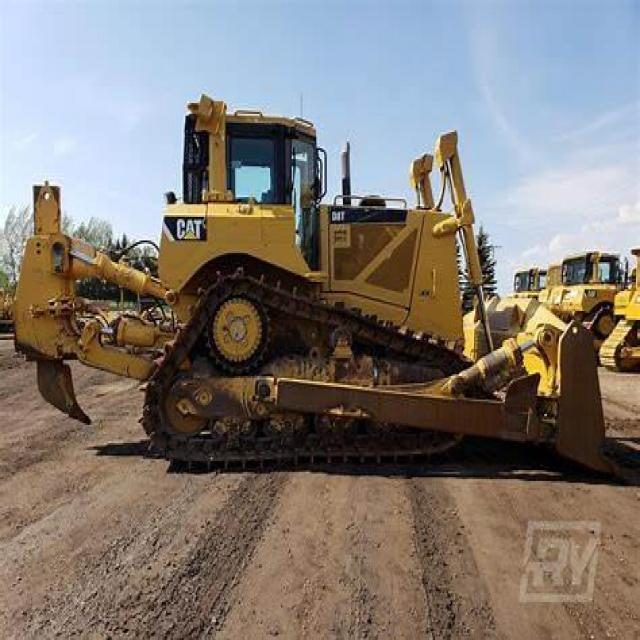Bulldozer: (27, 67, 639, 568)
